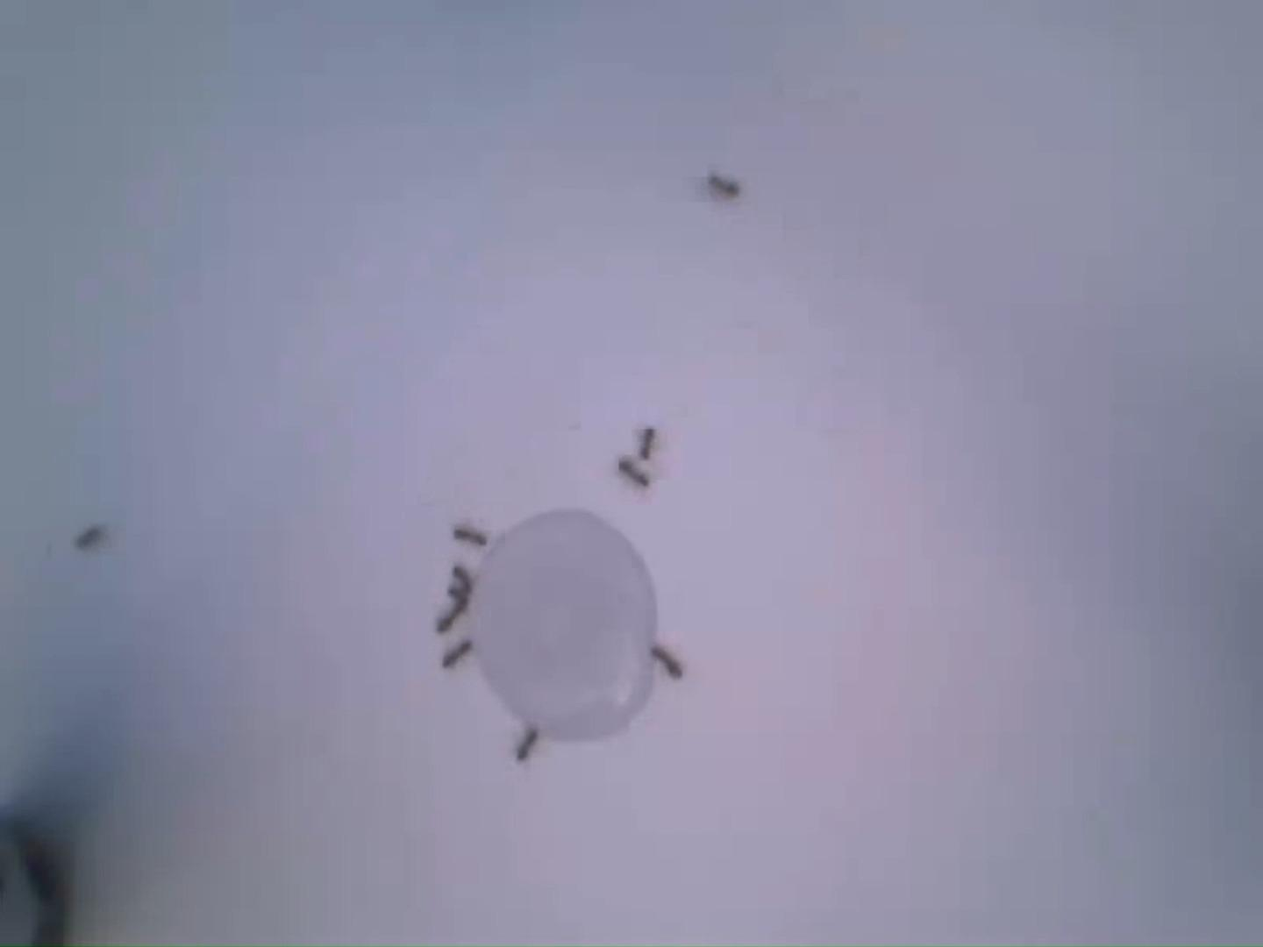Ant: (651, 644, 685, 679), (621, 457, 653, 490), (442, 639, 473, 672), (708, 171, 744, 199), (515, 726, 540, 765), (453, 524, 490, 549), (436, 604, 461, 636), (77, 523, 105, 549), (447, 579, 473, 607), (451, 561, 472, 594), (641, 426, 661, 459)
